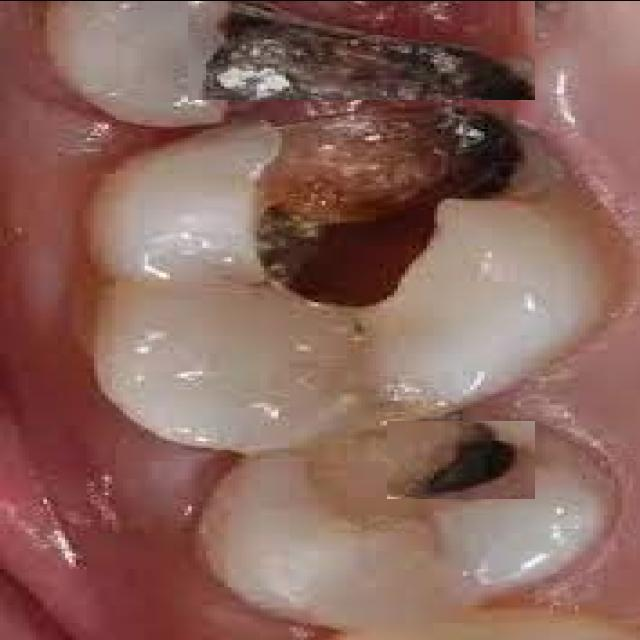decay: (228, 115, 536, 283), (188, 0, 535, 99), (387, 420, 535, 498)
